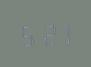five: (18, 20, 35, 47)
one: (55, 19, 72, 46)
two: (37, 20, 54, 46)
